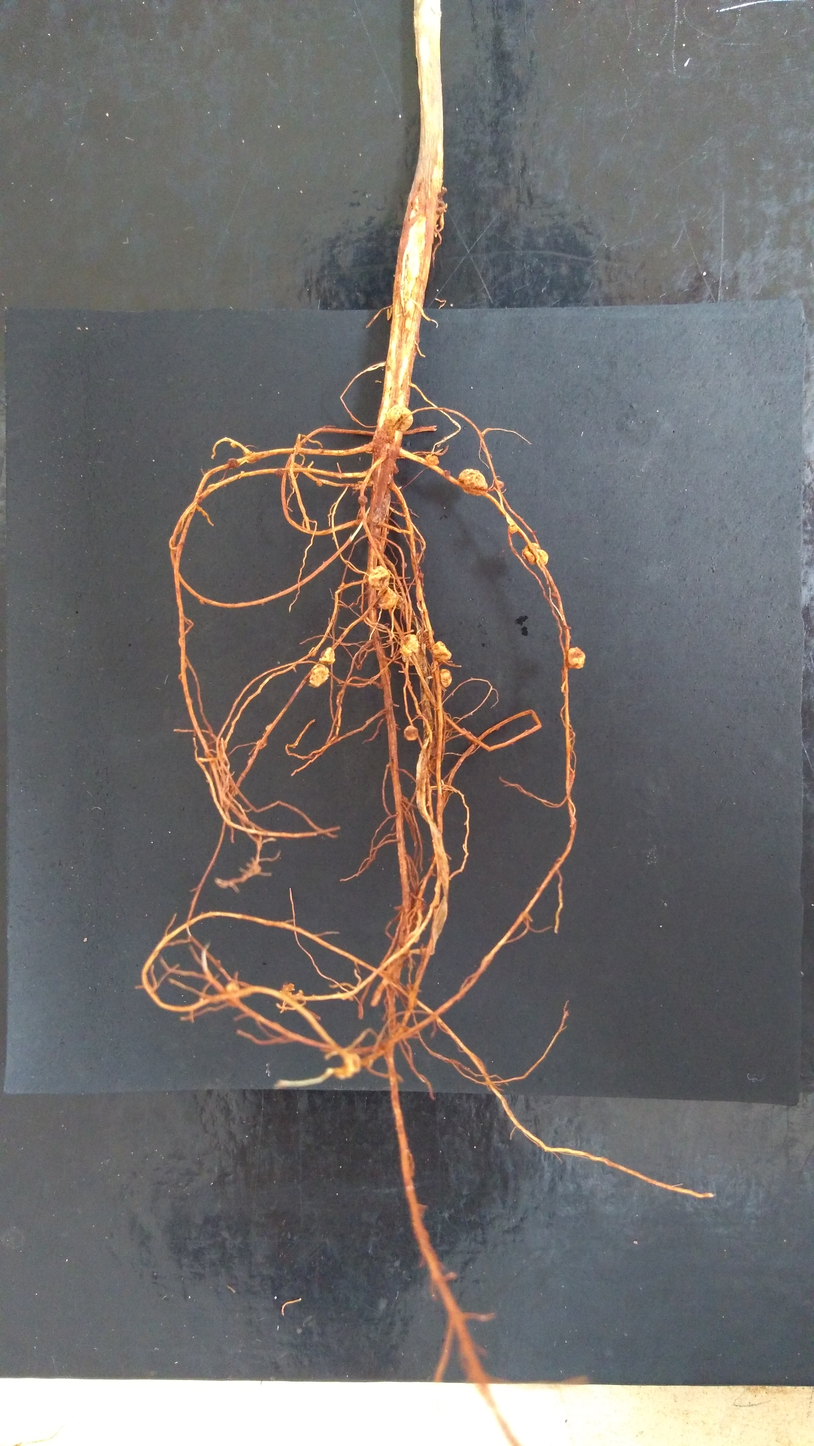nodule: (400, 634, 426, 666), (458, 469, 488, 496), (385, 405, 413, 431), (334, 1053, 360, 1079), (522, 543, 549, 565), (367, 566, 390, 590), (377, 586, 399, 609), (308, 664, 329, 687), (566, 647, 586, 669), (432, 641, 452, 662), (319, 647, 336, 665), (439, 669, 452, 688), (404, 725, 419, 740), (402, 603, 414, 621), (435, 199, 446, 216), (395, 594, 406, 610), (425, 454, 439, 466), (281, 982, 296, 992), (226, 982, 239, 993), (227, 458, 239, 469), (256, 739, 267, 750), (493, 479, 504, 489), (508, 524, 518, 534), (358, 495, 367, 505), (274, 469, 284, 477), (392, 463, 399, 473), (357, 513, 364, 520), (400, 562, 407, 569), (230, 442, 237, 448), (316, 480, 322, 487), (444, 470, 451, 476), (265, 724, 272, 730), (418, 573, 424, 579)
